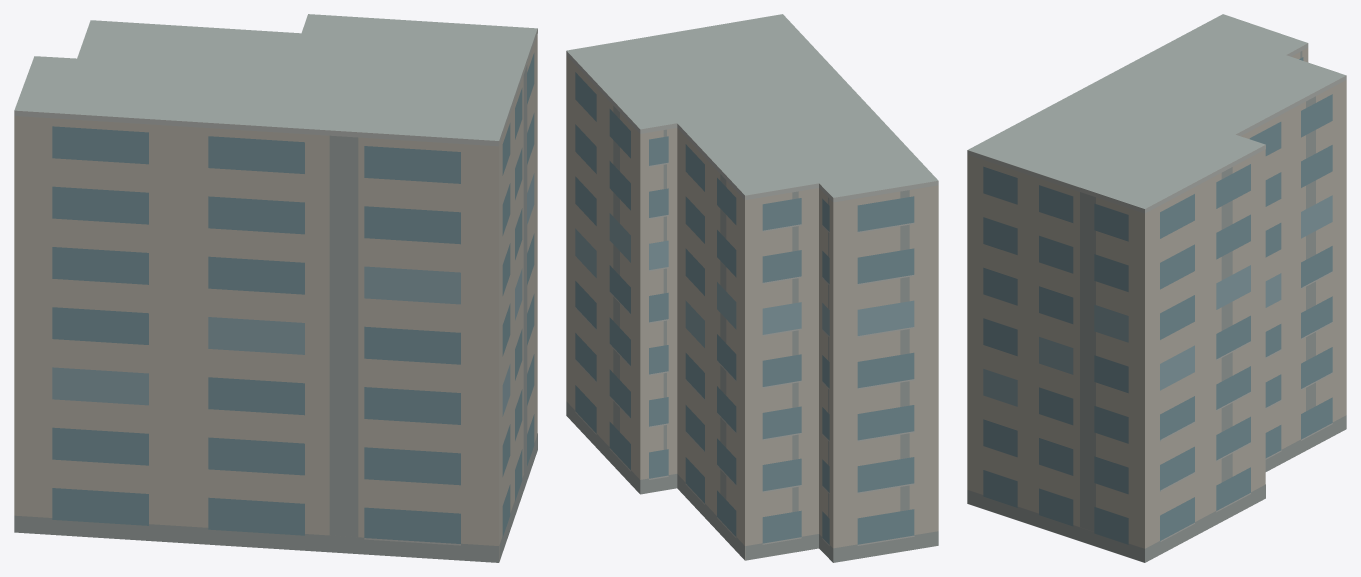
File: survey-upis-32808037.glb
3 renders of one model, left to right at view 1: azimuth 30°, elevation 25°; view 2: azimuth 150°, elevation 25°; view 3: azimuth 270°, elevation 25°, orthographic. The views are drawn at different scales.
Visible parts, largest first — view 1: survey-upis-32808037.tmp; view 2: survey-upis-32808037.tmp; view 3: survey-upis-32808037.tmp.
Boxes of the visible parts, left/top/right/bottom form: survey-upis-32808037.tmp: left=14, top=14, right=537, bottom=562; survey-upis-32808037.tmp: left=566, top=14, right=938, bottom=562; survey-upis-32808037.tmp: left=967, top=14, right=1346, bottom=562.
Size of the model in its own units: 22.96 by 19.4 by 18.85.
